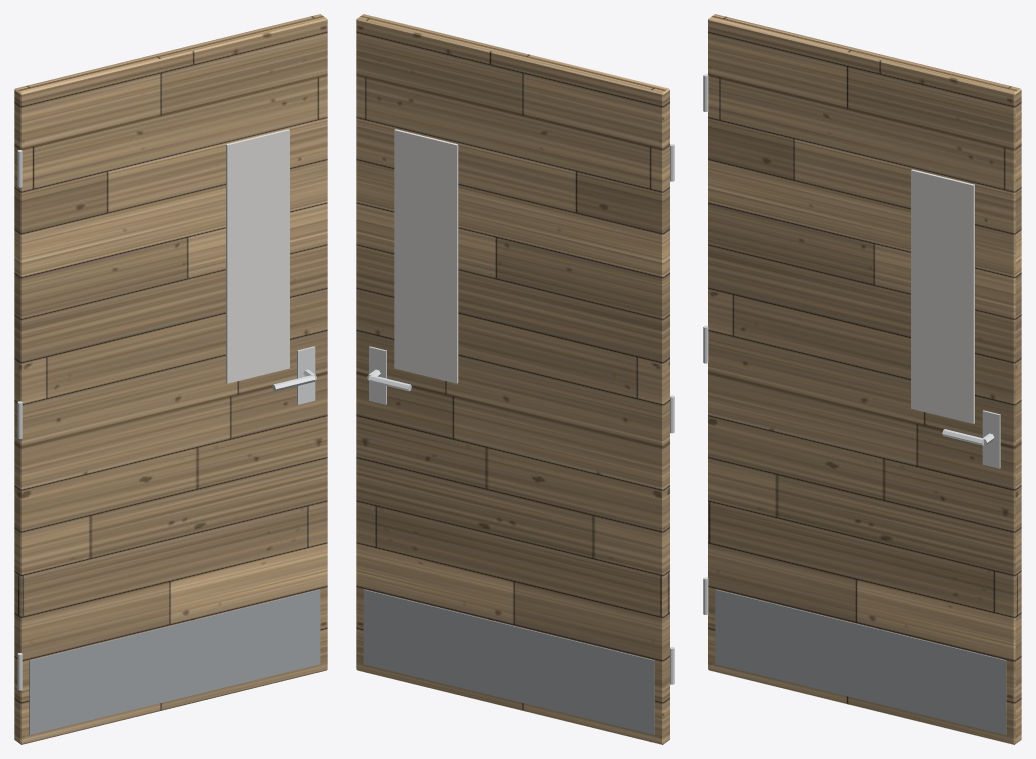
File: door_room.glb
3 renders of one model, left to right at view 1: azimuth 30°, elevation 25°; view 2: azimuth 150°, elevation 25°; view 3: azimuth 330°, elevation 25°, orthographic.
Parts seen in each view (by area): view 1: door_room_laminate, door_room_steel, door_room_frame, door_room_chrome; view 2: door_room_laminate, door_room_steel, door_room_frame, door_room_chrome; view 3: door_room_laminate, door_room_steel, door_room_frame, door_room_chrome.
Boxes of the visible parts, bbox=[...] form: door_room_laminate: bbox=[14, 14, 327, 744]; door_room_steel: bbox=[29, 589, 320, 734]; door_room_frame: bbox=[226, 129, 289, 383]; door_room_chrome: bbox=[17, 150, 316, 690]; door_room_laminate: bbox=[356, 14, 669, 744]; door_room_steel: bbox=[363, 589, 654, 734]; door_room_frame: bbox=[394, 129, 458, 383]; door_room_chrome: bbox=[367, 144, 674, 684]; door_room_laminate: bbox=[708, 14, 1021, 744]; door_room_steel: bbox=[715, 589, 1006, 734]; door_room_frame: bbox=[911, 169, 974, 423]; door_room_chrome: bbox=[703, 74, 1000, 614].
Size of the model in its own units: 1.09 by 2.19 by 0.167.
Materials: 5 (1 with a texture image).
